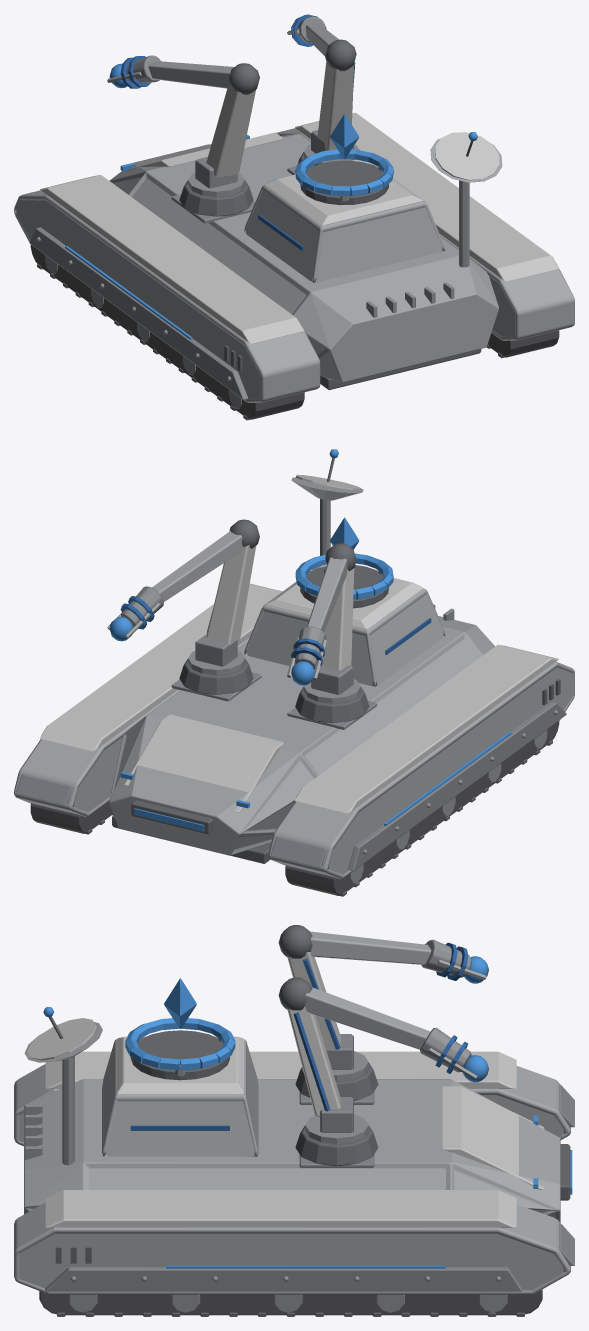
Rendered from lattice_builder_adv.glb.
The picture shows the model from 3 angles, top to bottom: view 1: azimuth 30°, elevation 25°; view 2: azimuth 150°, elevation 25°; view 3: azimuth 270°, elevation 25°; orthographic projection. The views are drawn at different scales.
Visible parts, largest first — view 1: Body; view 2: Body; view 3: Body.
Part boxes in pixels (x1,y1,x2,y2): Body: [14, 14, 574, 420]; Body: [14, 449, 574, 896]; Body: [14, 925, 574, 1316].
Bounding box in the file's own units: 1.71 × 1.25 × 2.26.
